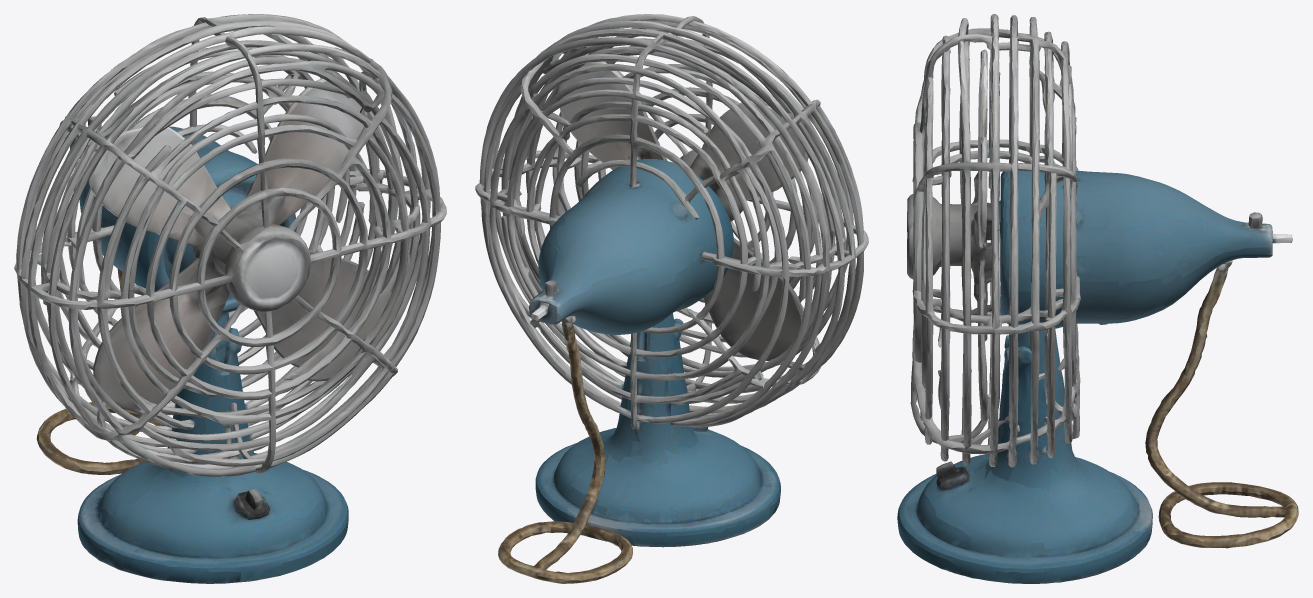
The model's file is parts.glb.
3 renders of one model, left to right at view 1: azimuth 30°, elevation 25°; view 2: azimuth 150°, elevation 25°; view 3: azimuth 270°, elevation 25°, orthographic. The views are drawn at different scales.
Bounding box in the file's own units: 0.3729 × 0.45 × 0.3316.
Materials: 3 (3 with a texture image).
